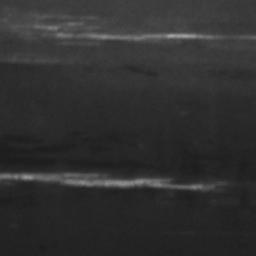Bright scratch: (0, 172, 227, 193), (56, 32, 256, 41)
